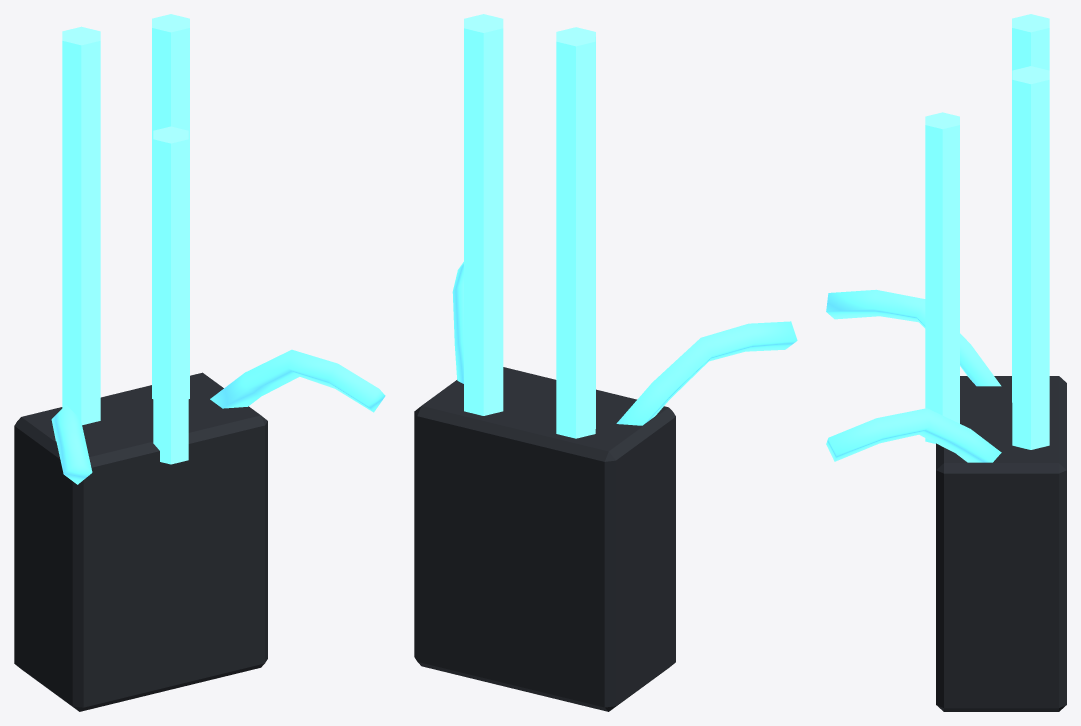
File: dc_conduit_pack.glb
3 renders of one model, left to right at view 1: azimuth 30°, elevation 25°; view 2: azimuth 150°, elevation 25°; view 3: azimuth 270°, elevation 25°, orthographic. The views are drawn at different scales.
Parts seen in each view (by area): view 1: part.dc_conduit_pack; view 2: part.dc_conduit_pack; view 3: part.dc_conduit_pack.
Part boxes in pixels (x1=…): part.dc_conduit_pack: x1=14, y1=14, x2=385, y2=711; part.dc_conduit_pack: x1=414, y1=14, x2=797, y2=711; part.dc_conduit_pack: x1=826, y1=14, x2=1066, y2=711.
Size of the model in its own units: 0.5608 by 1.05 by 0.3683.
